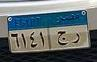1: (39, 30, 45, 48), (21, 33, 27, 48)
4: (30, 31, 36, 47)
6: (11, 32, 19, 48)
jeem: (57, 28, 67, 46)
raa: (71, 32, 80, 45)
